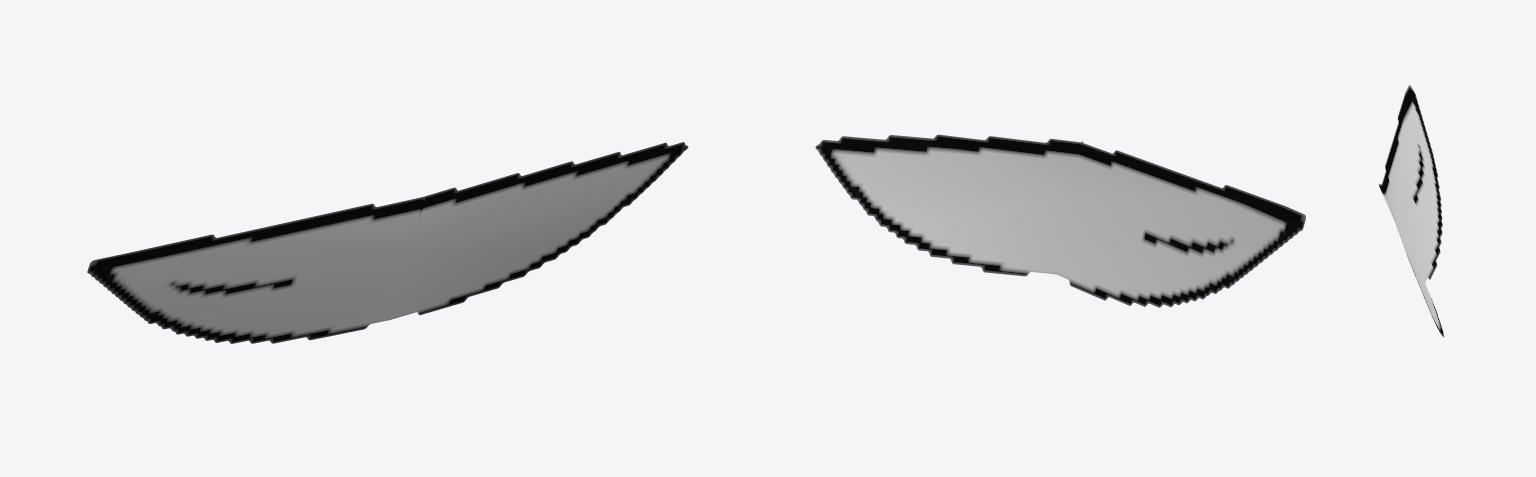
Rendered from mouth.glb.
The picture shows the model from 3 angles, left to right: view 1: azimuth 30°, elevation 25°; view 2: azimuth 150°, elevation 25°; view 3: azimuth 270°, elevation 25°; orthographic projection. The views are drawn at different scales.
Visible parts, largest first — view 1: mouth; view 2: mouth; view 3: mouth.
Boxes of the visible parts, <box> form: mouth: <box>87,142,688,343</box>; mouth: <box>815,134,1305,307</box>; mouth: <box>1378,85,1444,337</box>.
Size of the model in its own units: 0.2938 by 0.1593 by 0.096.
Materials: 1 (1 with a texture image).
